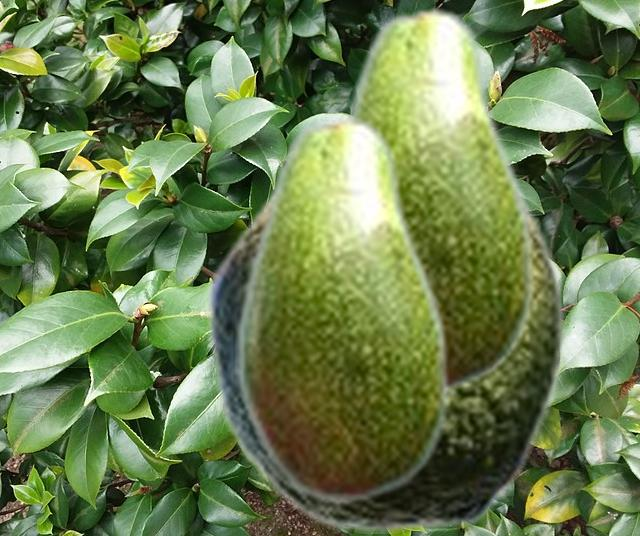avocado: (204, 184, 565, 532), (235, 112, 450, 506), (337, 3, 535, 397)
